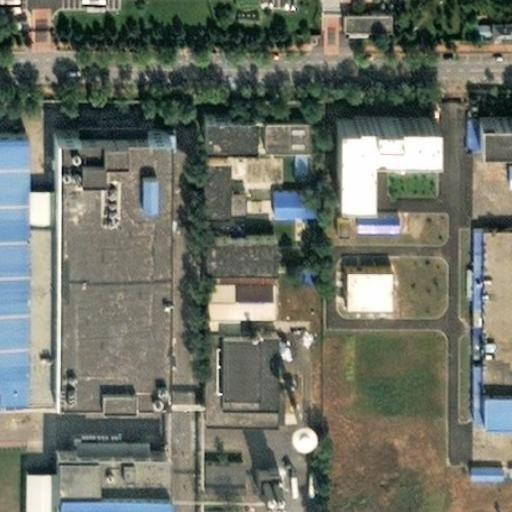building: (46, 120, 154, 390), (329, 104, 429, 187), (12, 176, 46, 390), (468, 218, 512, 383), (192, 320, 262, 398), (44, 446, 153, 485), (209, 272, 283, 319), (195, 224, 265, 256), (44, 485, 153, 503), (238, 208, 308, 233), (335, 256, 381, 293), (191, 147, 218, 204), (191, 109, 241, 137), (469, 383, 512, 413), (62, 431, 142, 446), (253, 111, 297, 138), (469, 105, 512, 131), (259, 465, 287, 502), (195, 451, 234, 477), (332, 2, 381, 22), (284, 233, 308, 272), (68, 107, 136, 120), (263, 182, 300, 204), (101, 393, 138, 414), (474, 462, 511, 481), (348, 207, 390, 222), (293, 148, 313, 179), (479, 10, 507, 27), (218, 181, 234, 204), (501, 155, 512, 176)
